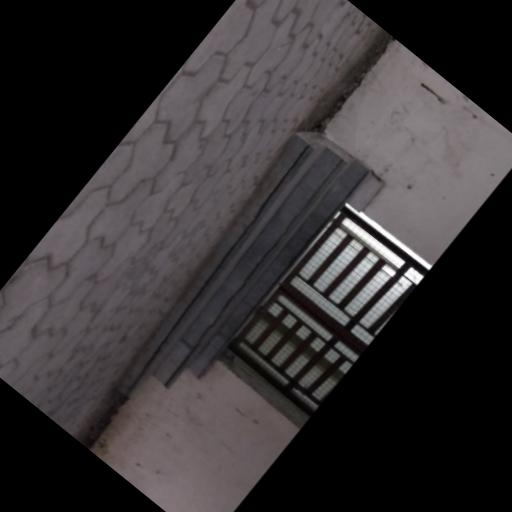stairs: (121, 131, 368, 394)
